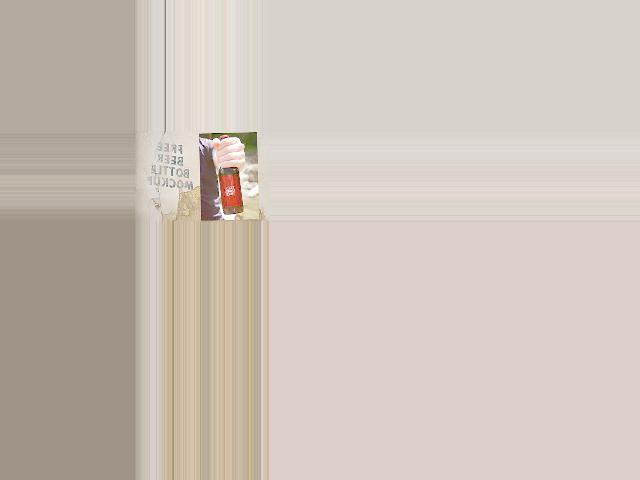beer: (218, 135, 243, 215)
